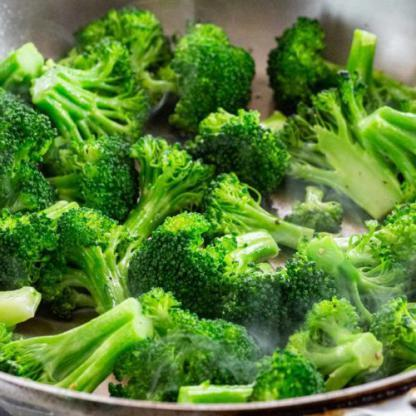broccoli: (0, 6, 415, 402)
